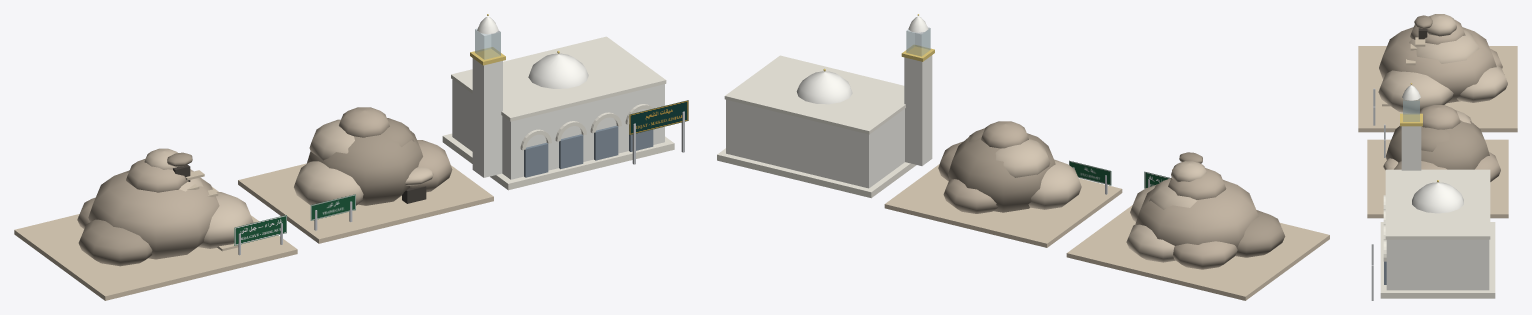
The model's file is kit-49-ziarah-makkah.glb.
3 renders of one model, left to right at view 1: azimuth 30°, elevation 25°; view 2: azimuth 150°, elevation 25°; view 3: azimuth 270°, elevation 25°, orthographic. The views are drawn at different scales.
Visible parts, largest first — view 1: Ziarah_MiqatTanim, Ziarah_JabalNur_GuaHira, Ziarah_JabalTsur; view 2: Ziarah_MiqatTanim, Ziarah_JabalNur_GuaHira, Ziarah_JabalTsur; view 3: Ziarah_MiqatTanim, Ziarah_JabalNur_GuaHira, Ziarah_JabalTsur.
Part boxes in pixels (<box>): Ziarah_MiqatTanim: <box>442,14,688,190</box>; Ziarah_JabalNur_GuaHira: <box>14,148,297,300</box>; Ziarah_JabalTsur: <box>238,107,493,243</box>; Ziarah_MiqatTanim: <box>717,14,934,198</box>; Ziarah_JabalNur_GuaHira: <box>1066,152,1329,300</box>; Ziarah_JabalTsur: <box>884,121,1122,247</box>; Ziarah_MiqatTanim: <box>1371,83,1495,300</box>; Ziarah_JabalNur_GuaHira: <box>1358,14,1517,132</box>; Ziarah_JabalTsur: <box>1367,105,1508,218</box>.
Size of the model in its own units: 33.8 by 9.28 by 9.
Materials: 17 (3 with a texture image).
